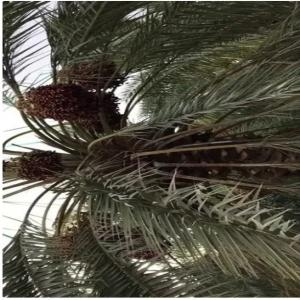palm tree: (1, 1, 299, 297)
